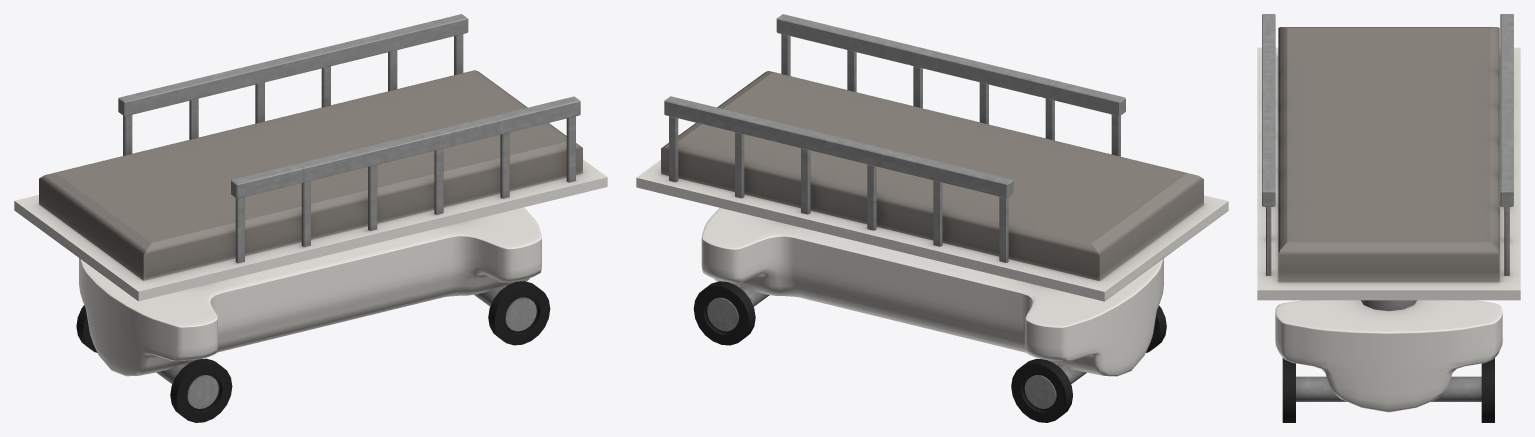
The model's file is Patient Bed ED.fbx.
The picture shows the model from 3 angles, left to right: view 1: azimuth 30°, elevation 25°; view 2: azimuth 150°, elevation 25°; view 3: azimuth 270°, elevation 25°; orthographic projection. The views are drawn at different scales.
Parts seen in each view (by area): view 1: Exam_Bed; view 2: Exam_Bed; view 3: Exam_Bed.
Boxes of the visible parts, box(x1,y1,x2,y2) form: Exam_Bed: box(14, 14, 607, 422); Exam_Bed: box(636, 14, 1228, 422); Exam_Bed: box(1257, 14, 1520, 422).
Bounding box in the file's own units: 196 × 95.42 × 89.73.
